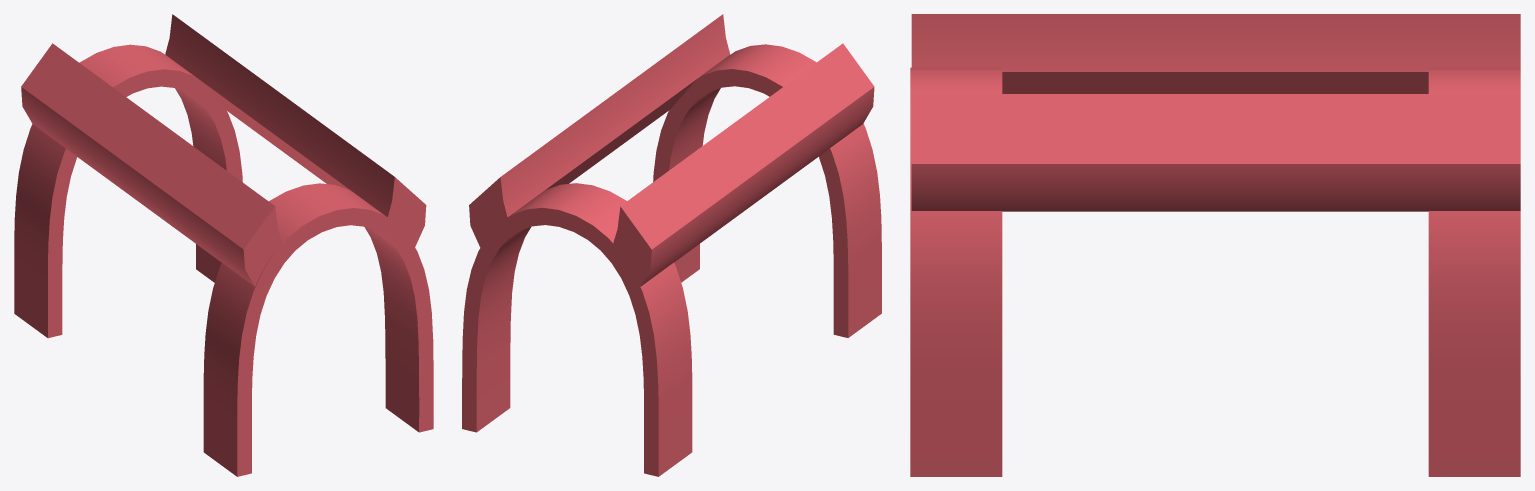
The model's file is WolfdenBridgeTop.fbx.
The picture shows the model from 3 angles, left to right: view 1: azimuth 30°, elevation 25°; view 2: azimuth 150°, elevation 25°; view 3: azimuth 270°, elevation 25°; orthographic projection. The views are drawn at different scales.
Parts seen in each view (by area): view 1: Cube.031, Circle.005, Circle.002; view 2: Cube.031, Circle.002, Circle.005; view 3: Cube.031, Circle.005, Circle.002.
Boxes of the visible parts, x1,y1,x2,y2 form: Cube.031: (21,14,426,286); Circle.005: (203,183,433,476); Circle.002: (14,44,242,338); Cube.031: (469,14,874,286); Circle.002: (462,183,692,476); Circle.005: (653,44,881,337); Cube.031: (911,14,1520,211); Circle.005: (910,67,1002,476); Circle.002: (1428,67,1520,476).
Bounding box in the file's own units: 1029 × 1308 × 2025.
